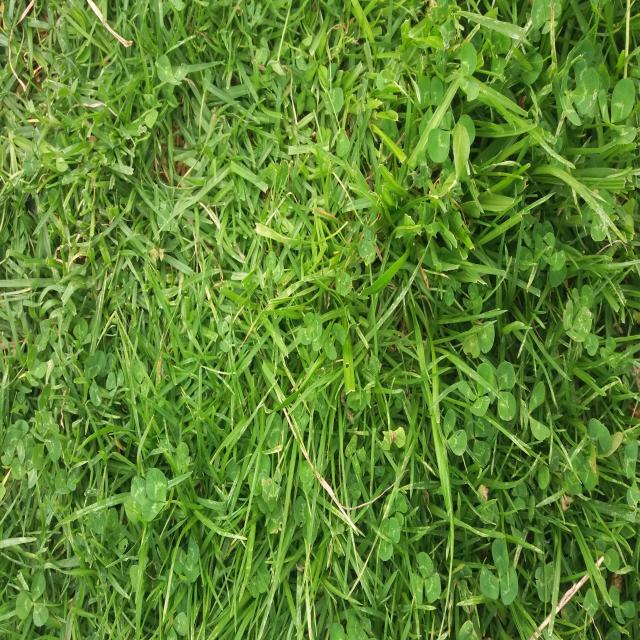Four Leaf Clover: (297, 312, 325, 351), (358, 226, 377, 266)
